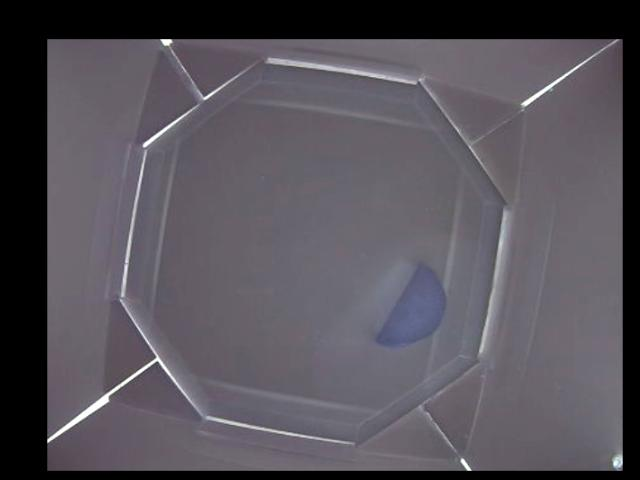Mooli: (373, 262, 449, 346)
